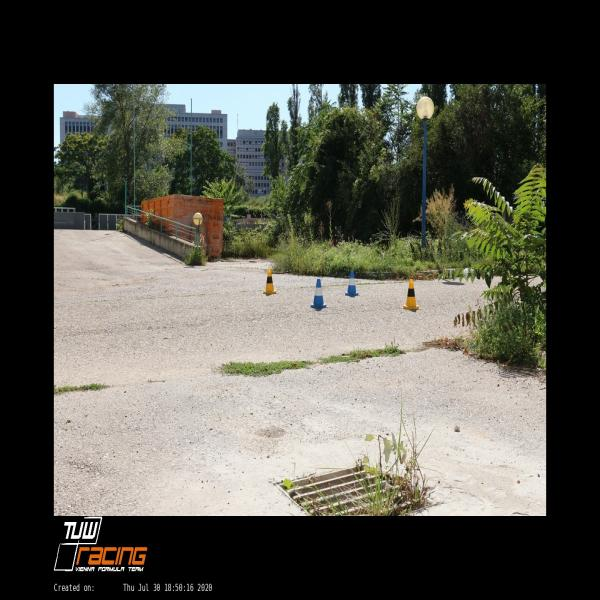blue_cone: (309, 279, 328, 308), (344, 270, 360, 296)
yellow_cone: (401, 279, 420, 310), (262, 268, 278, 294)
